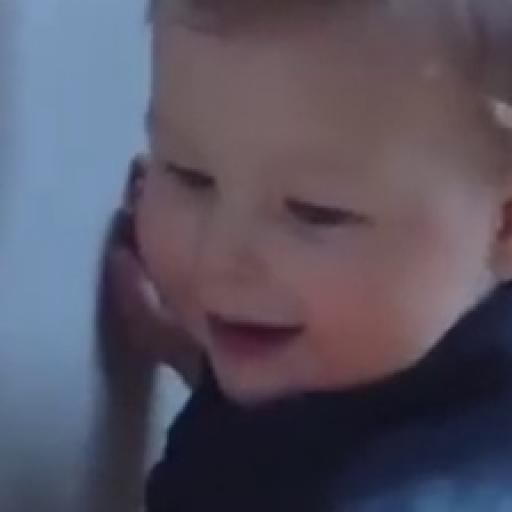Autism: (119, 7, 512, 411)
